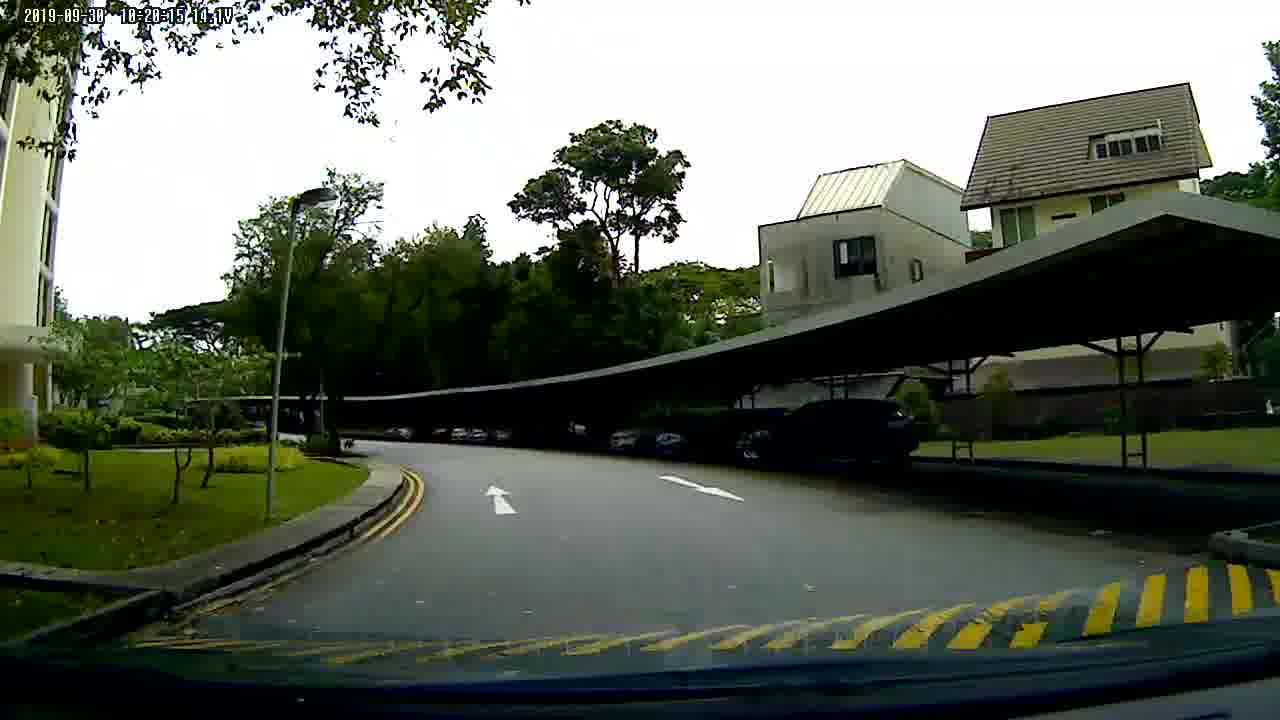car: (731, 399, 921, 472)
